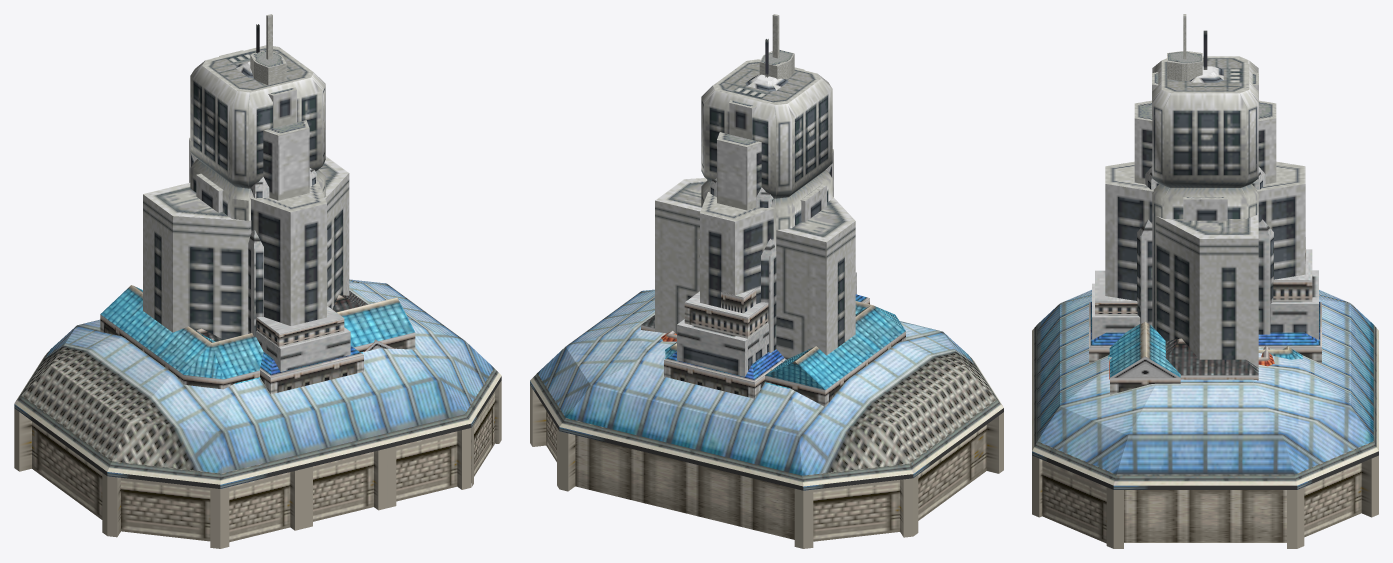
File: map_cityhouse.FBX
3 renders of one model, left to right at view 1: azimuth 30°, elevation 25°; view 2: azimuth 150°, elevation 25°; view 3: azimuth 270°, elevation 25°, orthographic. The views are drawn at different scales.
Visible parts, largest first — view 1: objmodel14, Object21, Object01, Object20, Object10, Object18, Object09, Object19; view 2: objmodel14, Object21, Object20, Object01, Object18, Object10, Object09, Object19, Object02; view 3: objmodel14, Object20, Object01, Object21, Object18, Object19, Object10, Object15, Object09, Object02.
Part boxes in pixels (bbox=[...]): objmodel14: bbox=[14, 279, 501, 548]; Object21: bbox=[143, 156, 349, 339]; Object01: bbox=[189, 14, 326, 325]; Object20: bbox=[190, 45, 325, 220]; Object10: bbox=[100, 285, 415, 389]; Object18: bbox=[256, 306, 350, 371]; Object09: bbox=[259, 346, 363, 394]; Object19: bbox=[248, 168, 316, 336]; objmodel14: bbox=[530, 289, 1003, 548]; Object21: bbox=[655, 178, 855, 359]; Object20: bbox=[701, 59, 832, 250]; Object01: bbox=[700, 14, 833, 307]; Object18: bbox=[677, 272, 856, 376]; Object10: bbox=[765, 301, 905, 406]; Object09: bbox=[664, 294, 869, 398]; Object19: bbox=[699, 178, 776, 352]; Object02: bbox=[745, 39, 788, 91]; objmodel14: bbox=[1032, 290, 1378, 548]; Object20: bbox=[1152, 56, 1258, 329]; Object01: bbox=[1105, 14, 1305, 300]; Object21: bbox=[1155, 214, 1258, 367]; Object18: bbox=[1092, 237, 1318, 339]; Object19: bbox=[1137, 167, 1273, 334]; Object10: bbox=[1109, 322, 1180, 394]; Object15: bbox=[1165, 338, 1258, 380]; Object09: bbox=[1089, 302, 1321, 363]; Object02: bbox=[1189, 30, 1223, 82].
Size of the model in its own units: 122 by 132 by 94.
Materials: 6 (6 with a texture image).
